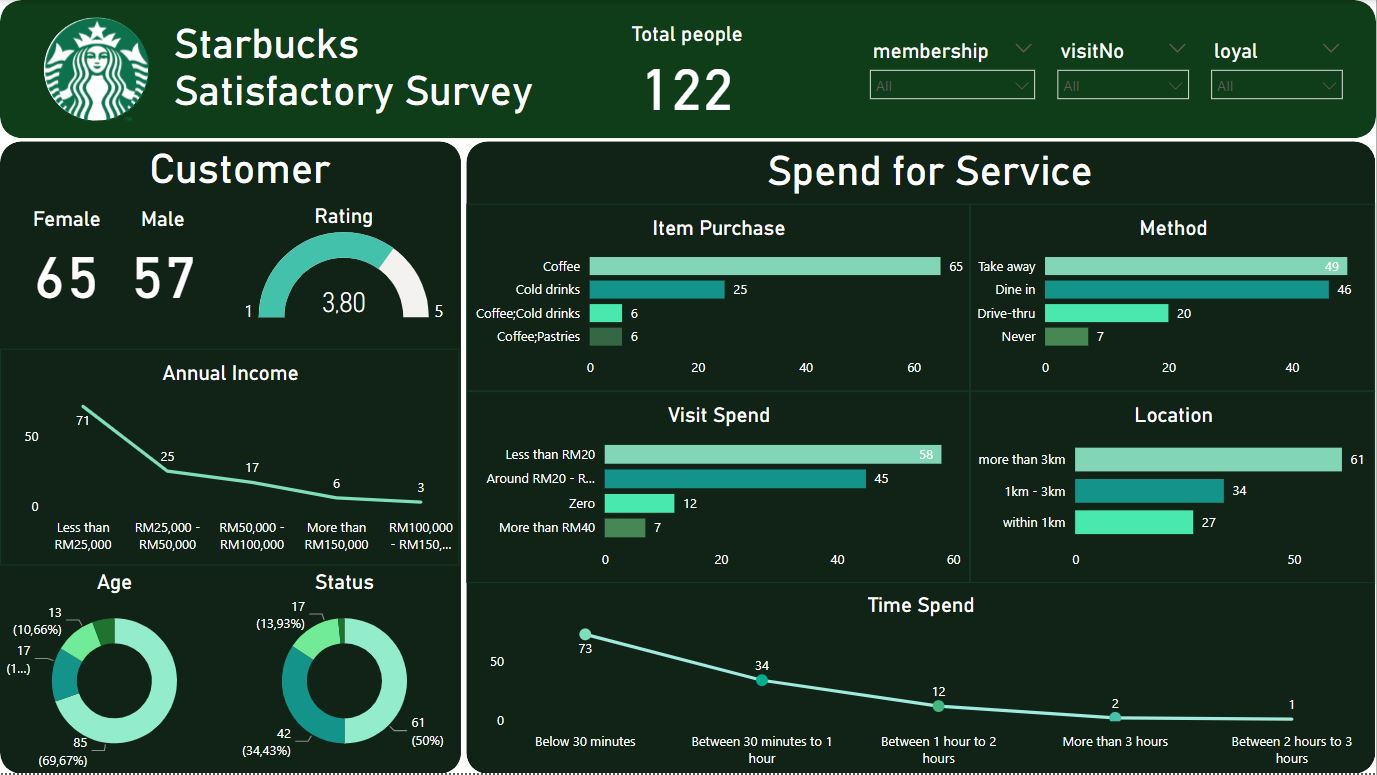

The dashboard page shown, as its layout file describes it:
{"tool":"powerbi","page":{"name":"survey","canvas":[1280,720],"ordinal":0},"visuals":[{"type":"shape","box":[0,0,1280,128.6],"z":0},{"type":"shape","box":[0,131.4,429,588.6],"z":1000},{"type":"donutChart","title":"Status","fields":{"Category":["starbucks.status"],"Y":["CountNonNull(starbucks.status)"]},"box":[214.3,525.7,212.9,194.3],"z":2000},{"type":"donutChart","title":"Age","fields":{"Category":["starbucks.age"],"Y":["CountNonNull(starbucks.age)"]},"box":[0,525.7,212.9,194.3],"z":3000},{"type":"gauge","title":"Rating","fields":{"Y":["Avg(starbucks.sales-promoteDecision)"],"MinValue":["Min(starbucks.serviceRate)"],"MaxValue":["Max(starbucks.ambianceRate)"]},"box":[212.9,190,214.3,115.7],"z":4000},{"type":"card","title":"Total people","fields":{"Values":["CountNonNull(starbucks.age)"]},"box":[570,21.4,138.6,90],"z":5000},{"type":"slicer","fields":{"Values":["starbucks.loyal"]},"box":[1115.7,31.4,142.9,71.4],"z":6000},{"type":"slicer","fields":{"Values":["starbucks.membershipCard"]},"box":[798.6,31.4,174.3,71.4],"z":7000},{"type":"textbox","box":[157.1,12.9,377.1,107.1],"z":8000},{"type":"shape","box":[37.1,12.9,104.3,102.9],"z":9000},{"type":"simpleImageEBC4593F96F1425FB3D84C5BF02B5075","fields":{"imageURL":["logo (2).img"]},"box":[37.1,11.4,114.3,107.1],"z":10000},{"type":"slicer","fields":{"Values":["starbucks.visitNo"]},"box":[972.9,31.4,142.9,71.4],"z":11000},{"type":"textbox","box":[72.9,128.6,300,61.4],"z":12000},{"type":"card","title":"Female","fields":{"Values":["CountNonNull(starbucks.gender)"]},"box":[18.6,192.9,87.1,95.7],"z":13000},{"type":"card","title":"Male","fields":{"Values":["CountNonNull(starbucks.gender)"]},"box":[105.7,192.9,91.4,95.7],"z":14000},{"type":"shape","box":[18.6,189.5,174.4,98.8],"z":15000},{"type":"lineChart","title":"Annual Income","fields":{"Category":["starbucks.income"],"Y":["CountNonNull(starbucks.income)"]},"box":[0,324.3,427.1,201.4],"z":16000},{"type":"shape","box":[434.3,131.4,845.7,588.6],"z":17000},{"type":"lineChart","title":"Time Spend","fields":{"Category":["starbucks.timeSpend"],"Y":["CountNonNull(starbucks.timeSpend)"]},"box":[433.7,543,846.5,176.7],"z":18000},{"type":"textbox","box":[450,131.4,830,61.4],"z":19000},{"type":"clusteredBarChart","title":"Visit Spend","fields":{"Category":["starbucks.visitSpend"],"Y":["CountNonNull(starbucks.visitSpend)"]},"box":[434.3,364.3,468.6,178.6],"z":20000},{"type":"clusteredBarChart","title":"Item Purchase","fields":{"Category":["starbucks.itemPurchase"],"Y":["CountNonNull(starbucks.itemPurchase)"]},"box":[434.3,190,468.6,174.3],"z":21000},{"type":"clusteredBarChart","title":"Method","fields":{"Y":["CountNonNull(starbucks.method)"],"Category":["starbucks.method"]},"box":[902.9,190,377.1,174.3],"z":22000},{"type":"clusteredBarChart","title":"Location","fields":{"Category":["starbucks.location"],"Y":["CountNonNull(starbucks.location)"]},"box":[902.9,364.3,377.1,178.6],"z":23000}]}

Visuals, with their boxes in screenshot pixels (x1, y1, x2, y2), scaled from the page's 1280x720 canvas onto the 1377x775 screenshot:
shape: detection(0, 0, 1376, 138)
shape: detection(0, 141, 462, 774)
"Status" donutChart: detection(231, 566, 460, 774)
"Age" donutChart: detection(0, 566, 229, 774)
"Rating" gauge: detection(229, 205, 460, 329)
"Total people" card: detection(613, 23, 762, 120)
slicer - starbucks.loyal: detection(1200, 34, 1354, 111)
slicer - starbucks.membershipCard: detection(859, 34, 1047, 111)
textbox: detection(169, 14, 575, 129)
shape: detection(40, 14, 152, 125)
simpleImageEBC4593F96F1425FB3D84C5BF02B5075 - logo (2).img: detection(40, 12, 163, 128)
slicer - starbucks.visitNo: detection(1047, 34, 1200, 111)
textbox: detection(78, 138, 401, 205)
"Female" card: detection(20, 208, 114, 311)
"Male" card: detection(114, 208, 212, 311)
shape: detection(20, 204, 208, 310)
"Annual Income" lineChart: detection(0, 349, 459, 566)
shape: detection(467, 141, 1376, 774)
"Time Spend" lineChart: detection(467, 584, 1376, 774)
textbox: detection(484, 141, 1376, 208)
"Visit Spend" clusteredBarChart: detection(467, 392, 971, 584)
"Item Purchase" clusteredBarChart: detection(467, 205, 971, 392)
"Method" clusteredBarChart: detection(971, 205, 1376, 392)
"Location" clusteredBarChart: detection(971, 392, 1376, 584)
